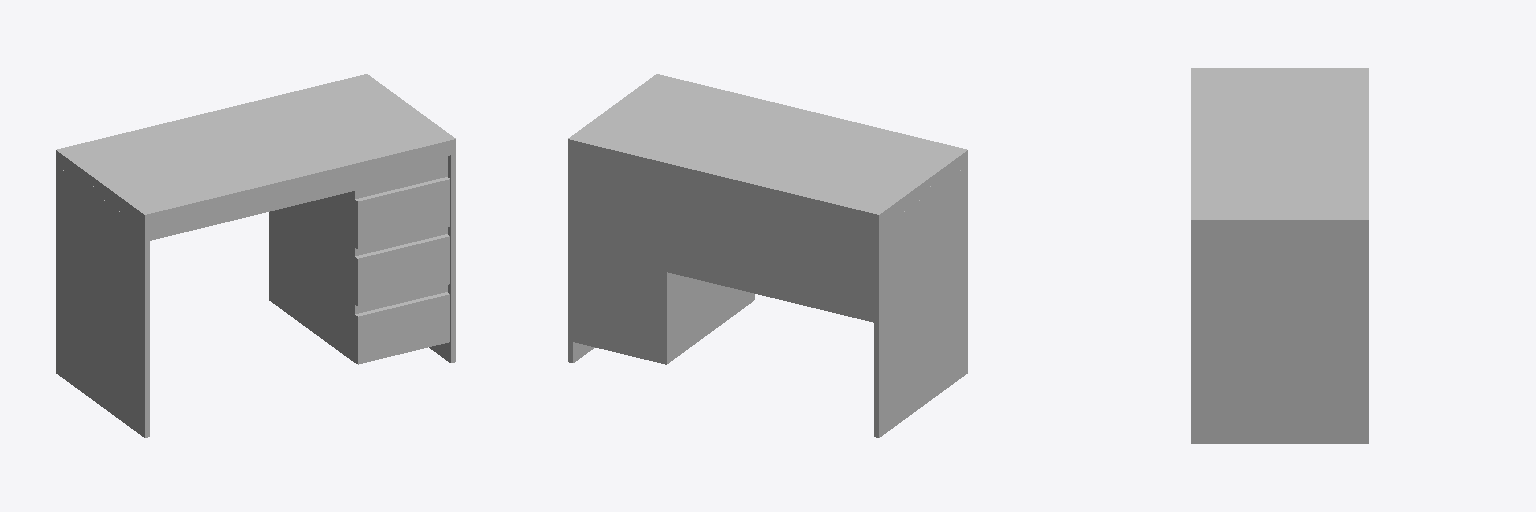
Rendered from HALLUND.obj.
3 renders of one model, left to right at view 1: azimuth 30°, elevation 25°; view 2: azimuth 150°, elevation 25°; view 3: azimuth 270°, elevation 25°, orthographic.
Parts seen in each view (by area): view 1: Cube_Cube.001; view 2: Cube_Cube.001; view 3: Cube_Cube.001.
Boxes of the visible parts, x1,y1,x2,y2 form: Cube_Cube.001: [56, 74, 455, 437]; Cube_Cube.001: [568, 74, 967, 437]; Cube_Cube.001: [1191, 68, 1368, 443].
Size of the model in its own units: 2.38 by 1.63 by 1.18.